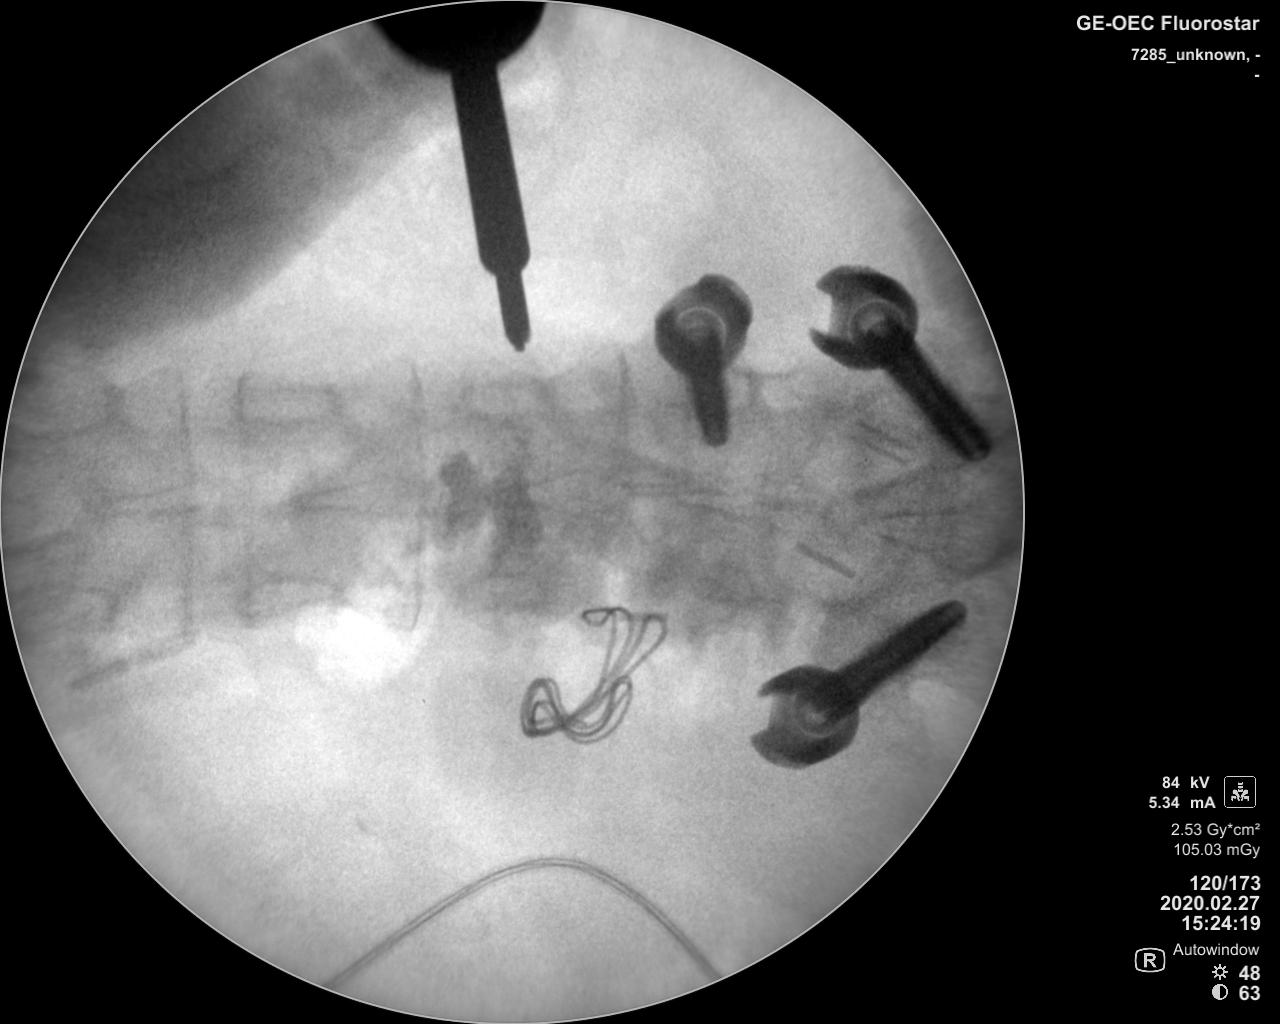eyes: (13, 377, 121, 439), (9, 584, 118, 638), (231, 378, 340, 428), (462, 374, 554, 423), (449, 573, 548, 616), (236, 577, 342, 616)
line: (166, 368, 197, 651), (401, 353, 425, 642)
nose: (869, 505, 1017, 573), (486, 463, 630, 519), (283, 473, 436, 518), (100, 469, 225, 516)
